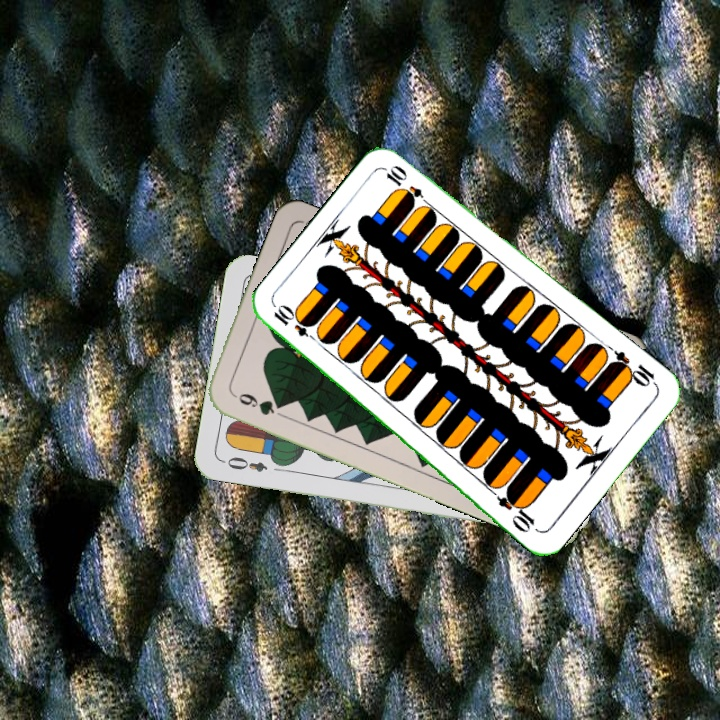E10: (606, 346, 660, 390), (269, 304, 321, 346)
EO: (218, 453, 270, 475)
G9: (229, 389, 286, 418)
